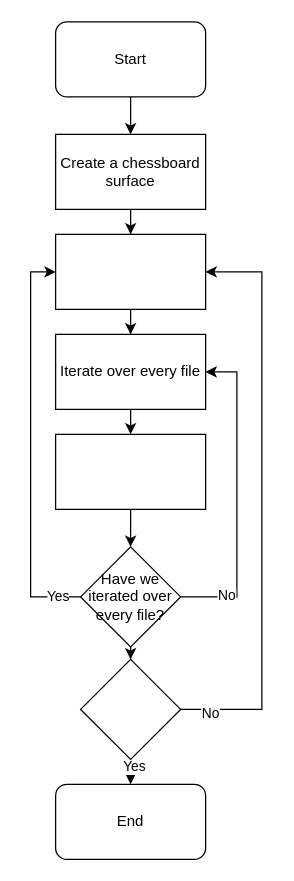
Image size: 294x881. Some labels were removed from this diagram. The shapes that lost their labels are listed below. From the top down, each one's centre as x and y in pixels, then its label:
At (130,271): "Iterate over every rank".
At (130,471): "Draw a tile of the right colour".
At (130,708): "Have we iterated over every rank?".
